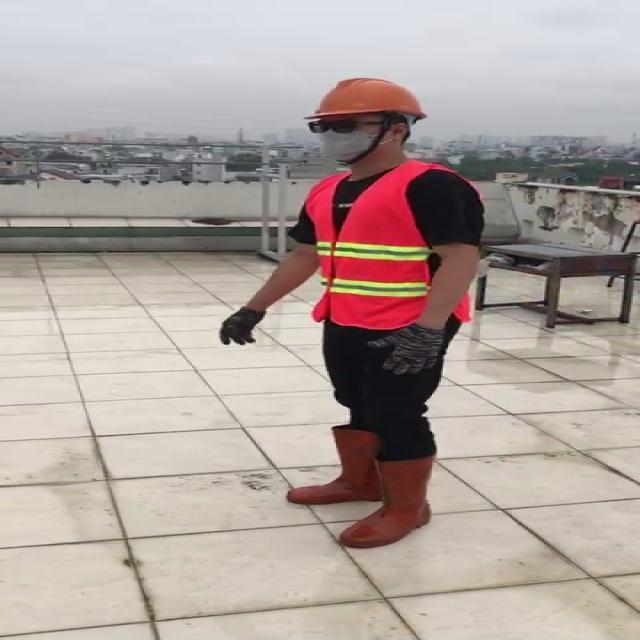boots: (338, 453, 428, 551), (286, 430, 381, 506)
